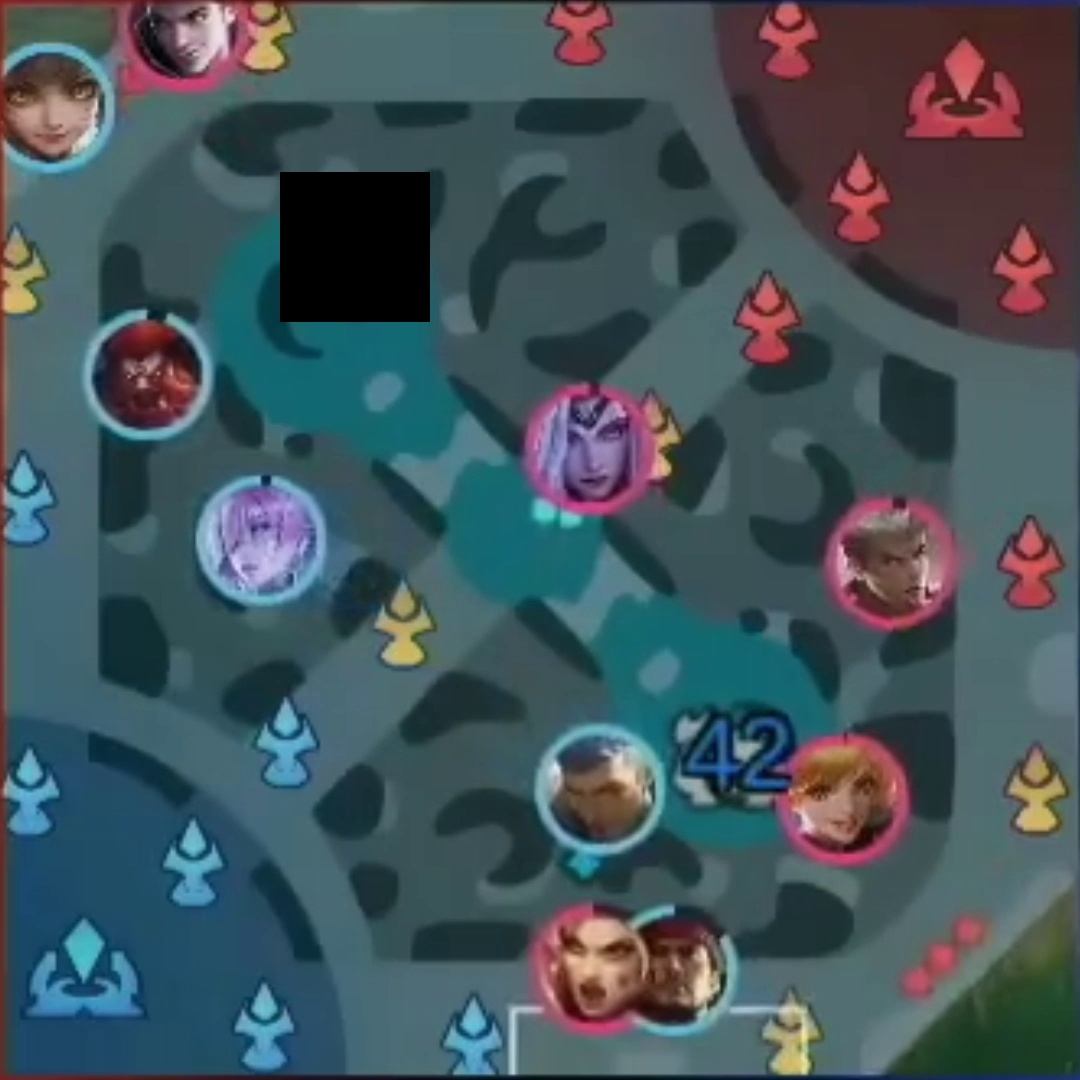Chou: (851, 510, 929, 606)
Claude: (146, 3, 228, 66)
Fanny: (800, 745, 886, 844)
Fredrinn: (554, 743, 647, 842)
Lapu-Lapu: (648, 924, 715, 1018)
Masha: (554, 922, 636, 1016)
Minotaur: (106, 327, 190, 424)
Novaria: (218, 494, 308, 592)
Valentina: (549, 399, 629, 496)
Wanwan: (13, 60, 97, 160)
